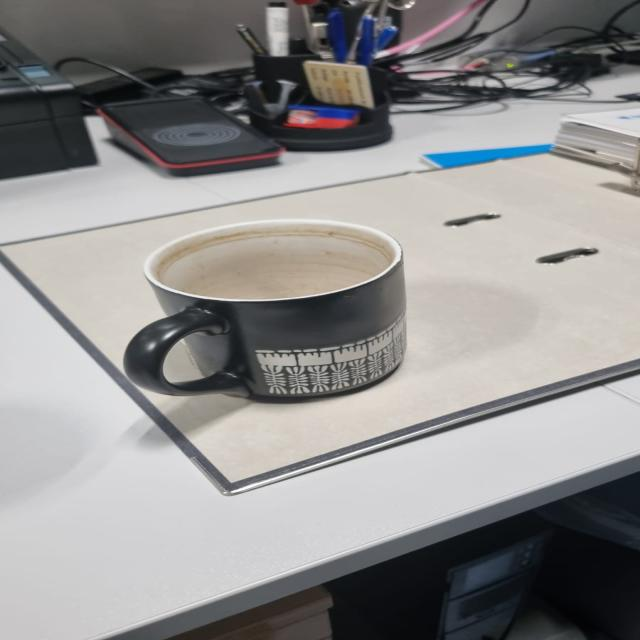Cup: (124, 220, 406, 402)
